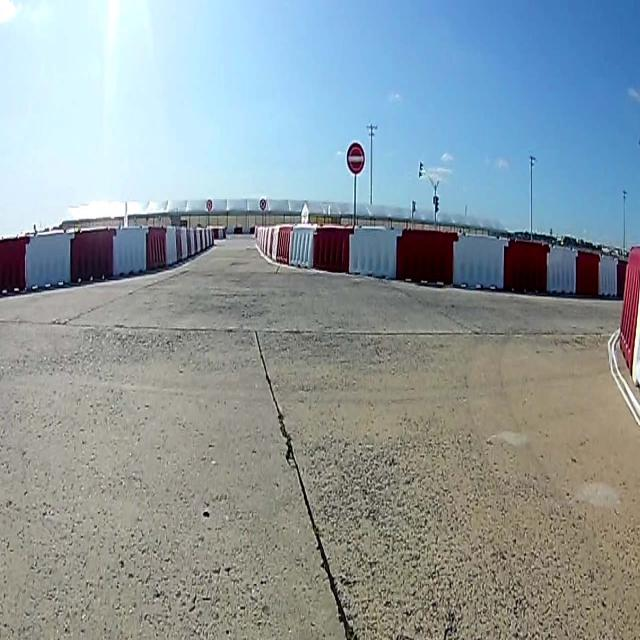girisyok: (347, 142, 365, 174)
